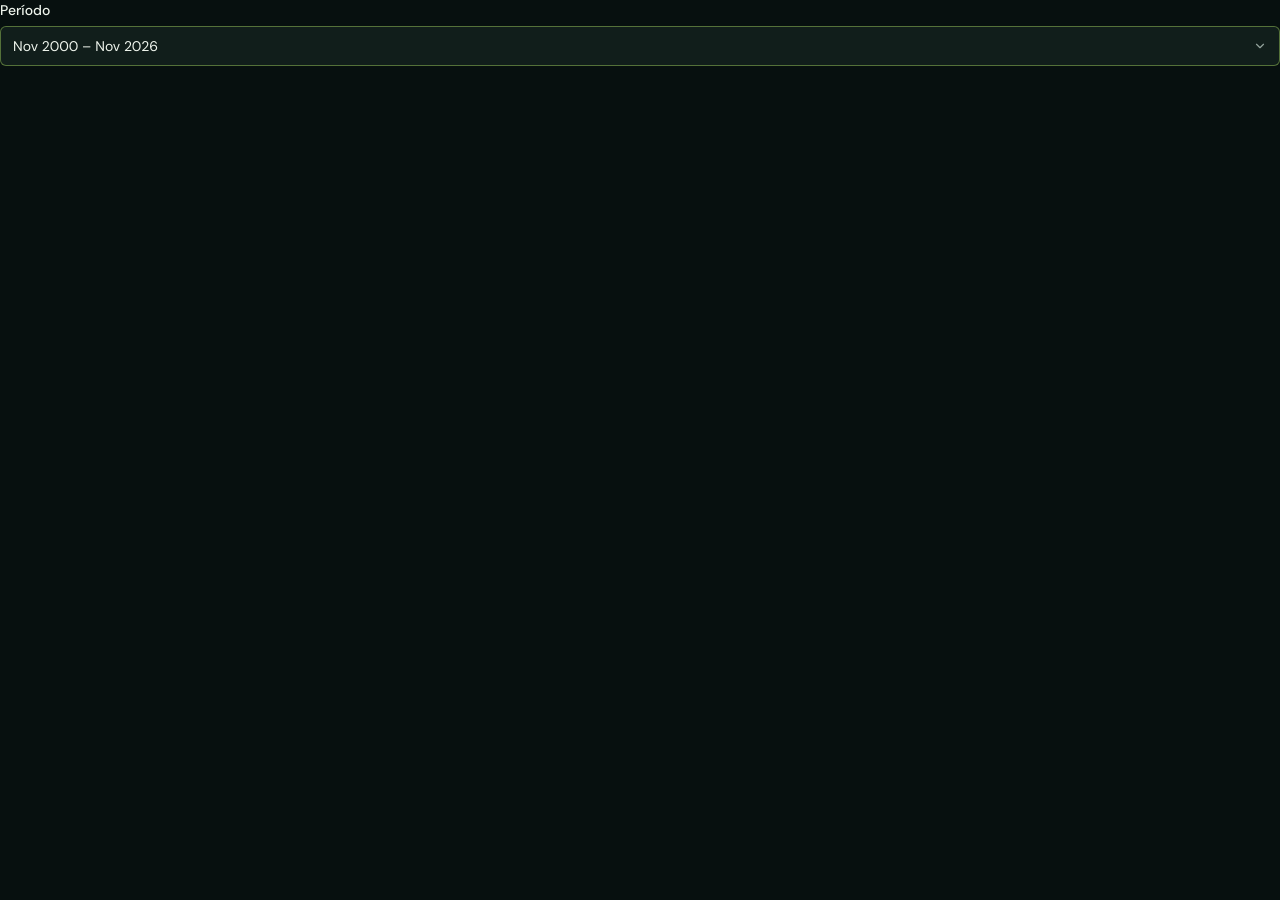
it: PeriodRangePicker › opens calendar popover, navigates years, and selects an ordered month range in two clicks
Step 1. Click the button with aria-label "Seleccionar rango de período" → x=46, y=46, box [0,26,1279,66]
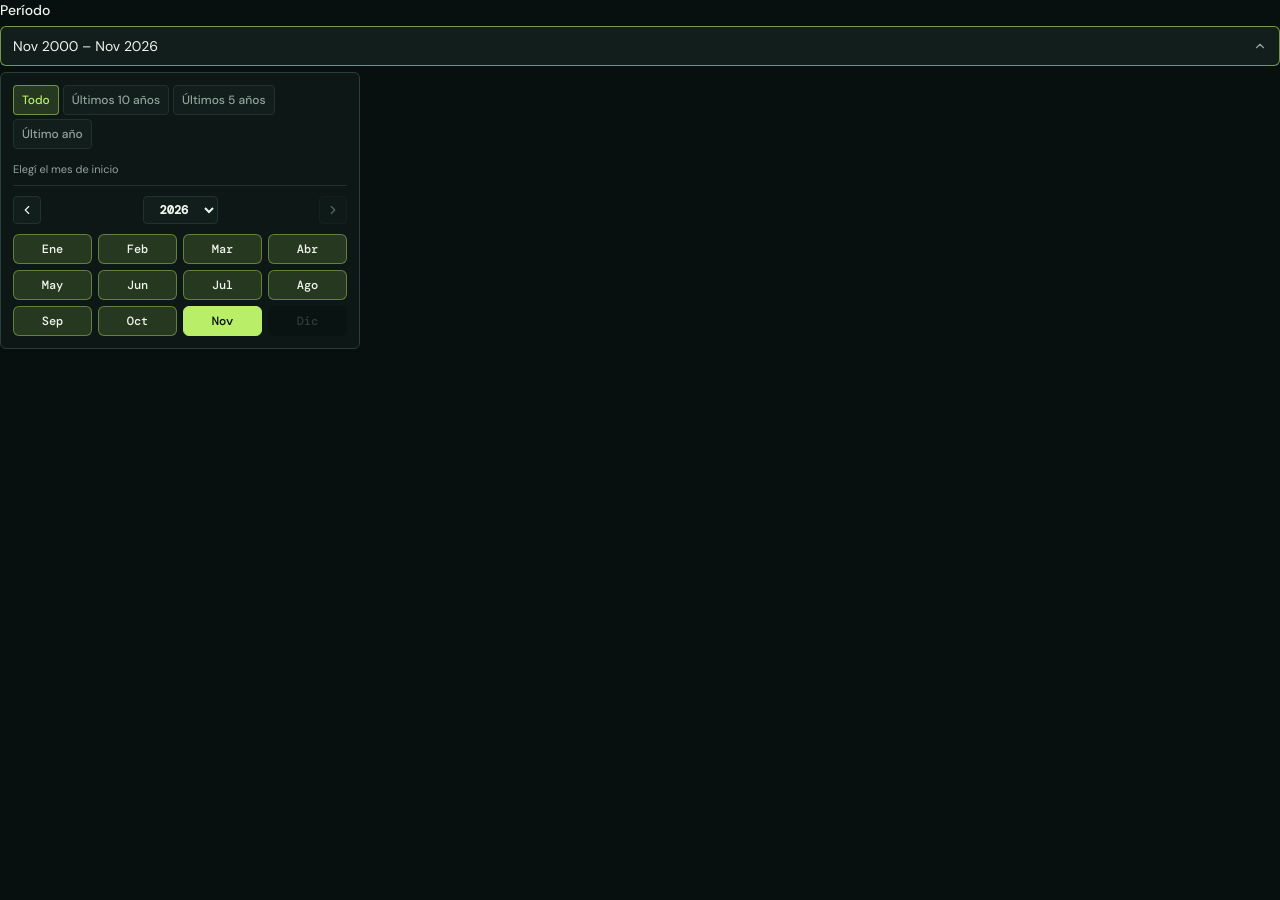
Now the dialog named "Calendario de rango mensual" is shown, box [0,72,360,349]
Step 2. Select "2020" in the dropdown named "Año" → x=180, y=210, box [142,196,218,224]
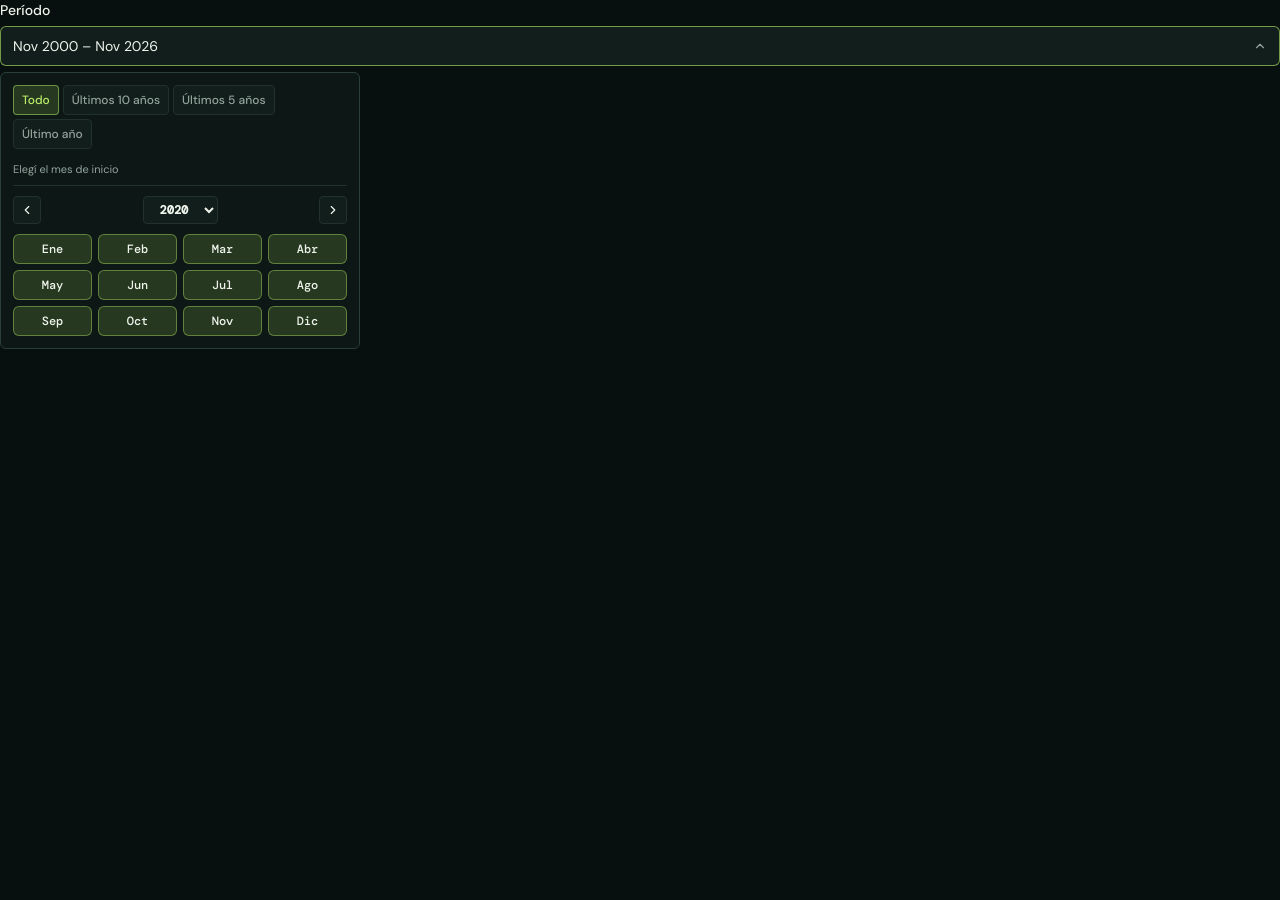
Step 3. Click the button with aria-label "Ago 2020" → x=308, y=285, box [268,270,347,300]
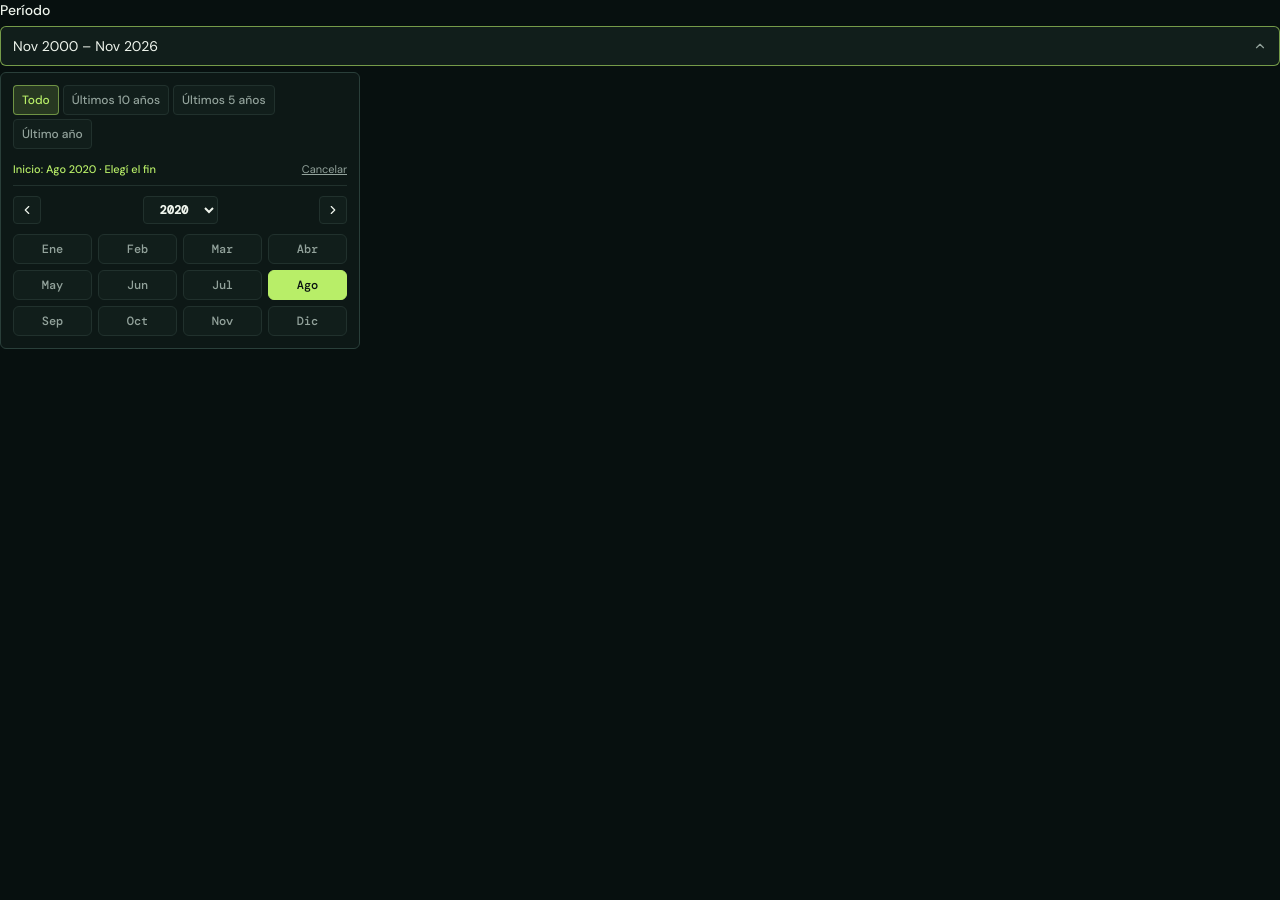
Step 4. Click the button with aria-label "Mar 2020" → x=222, y=249, box [183,234,262,264]
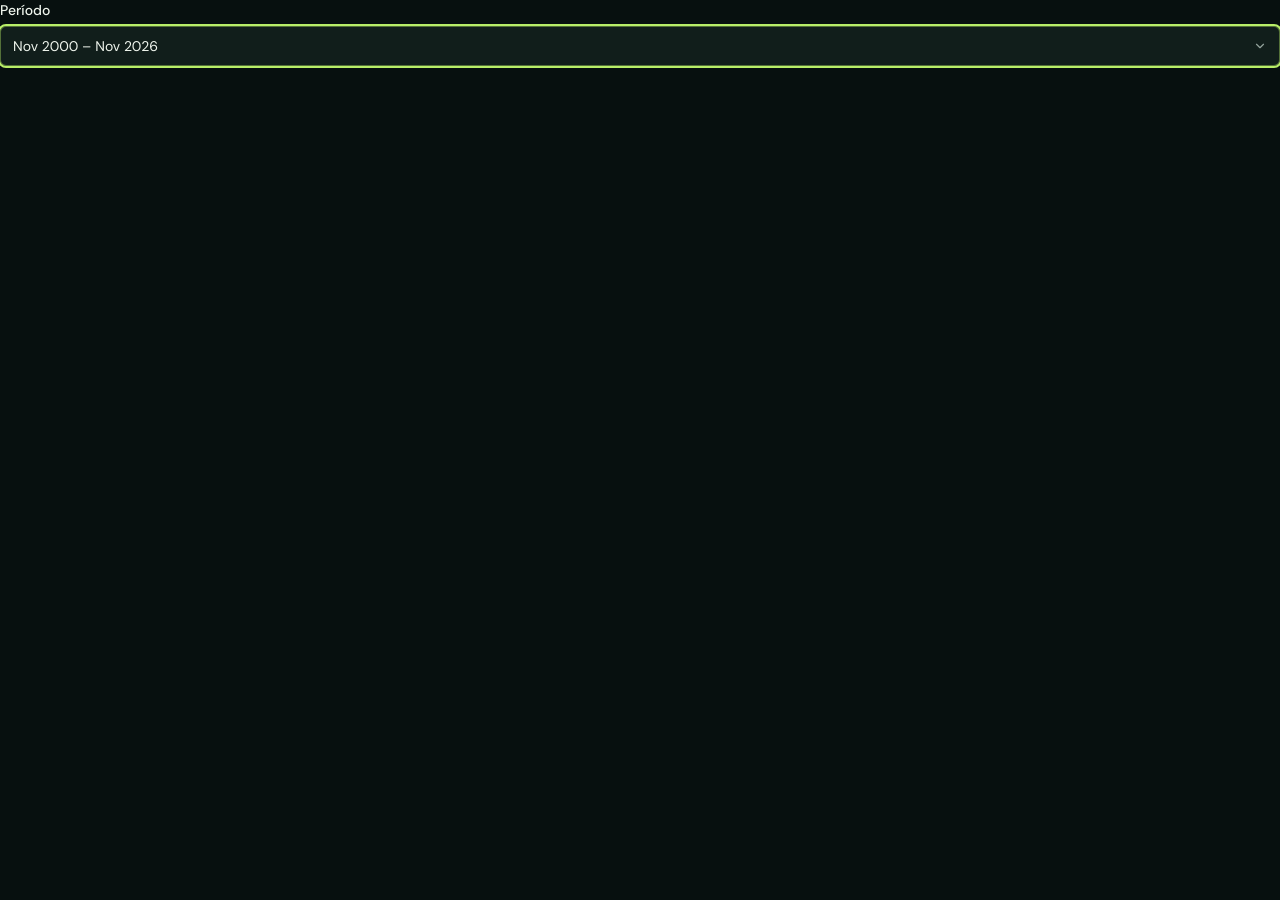
Now the dialog is gone
